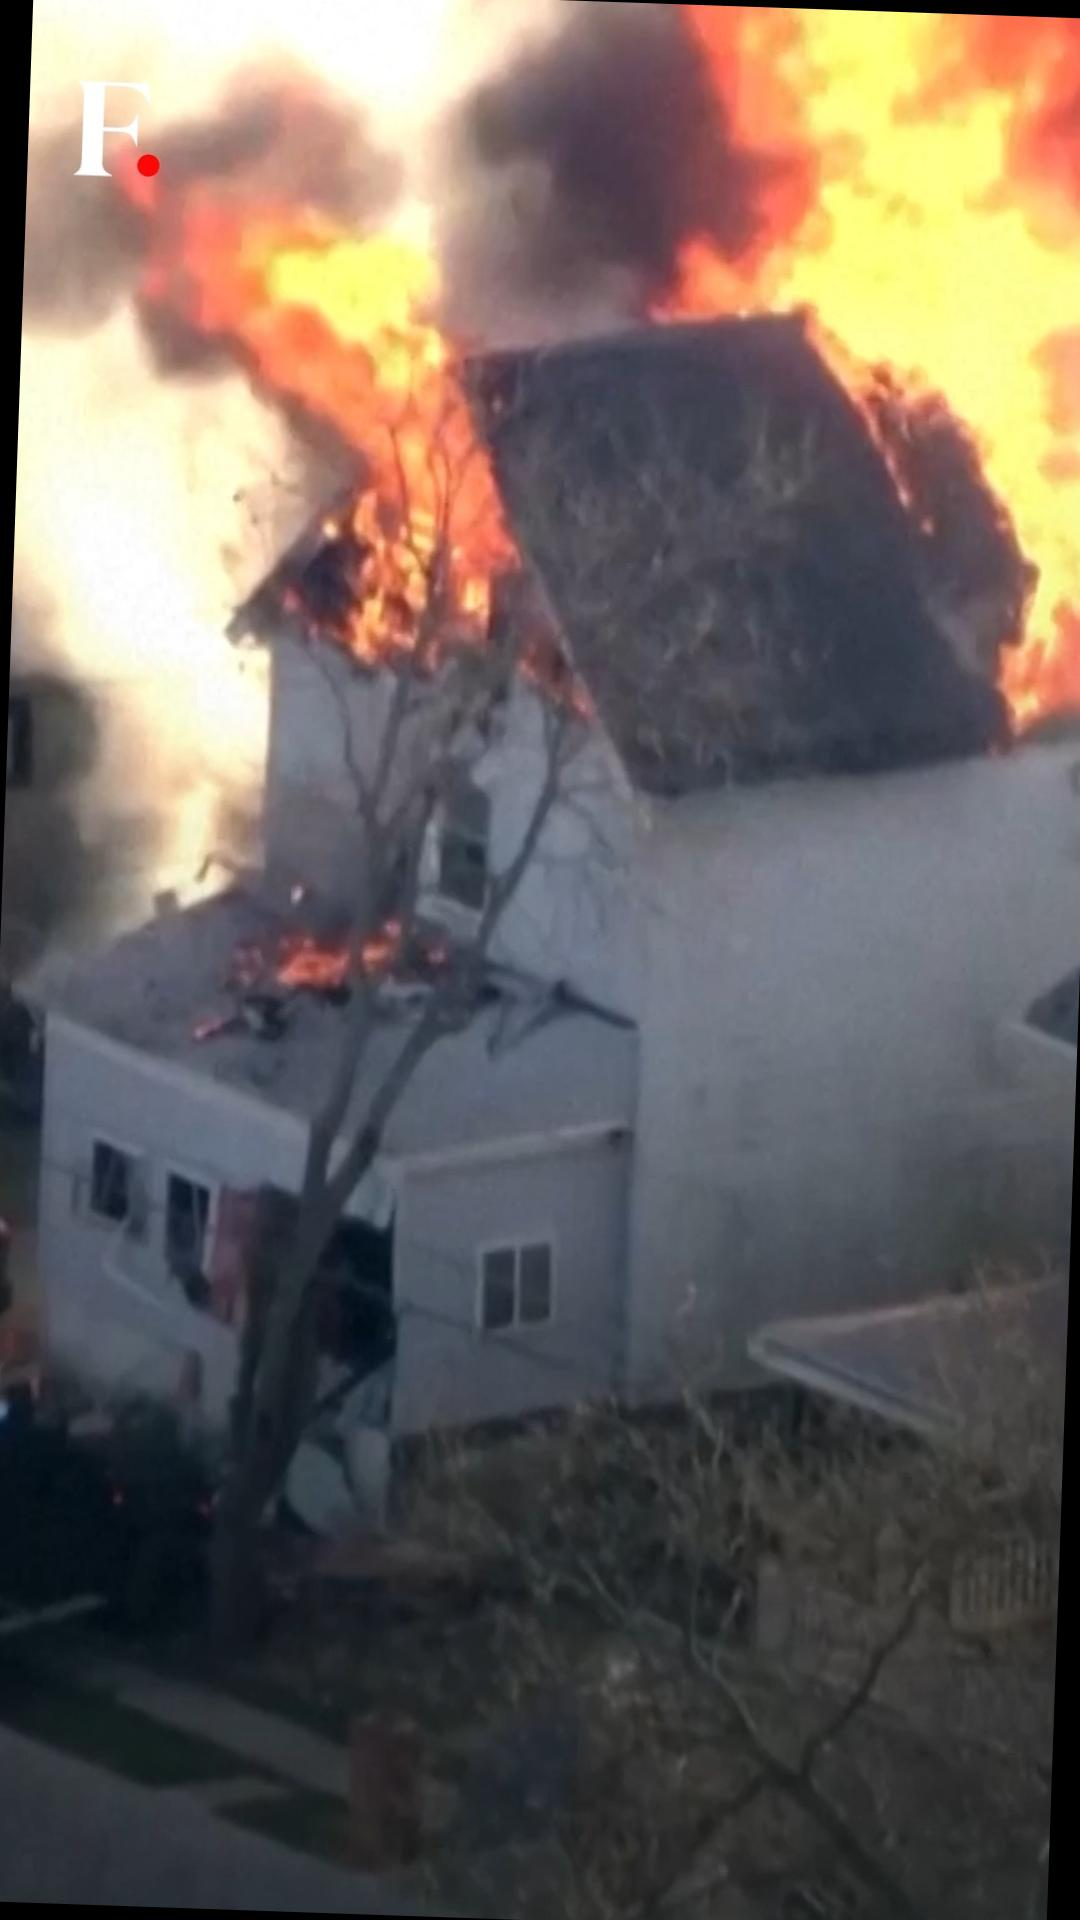Fire: (670, 5, 1080, 760), (150, 100, 537, 659)
Smoke: (425, 3, 816, 365)
